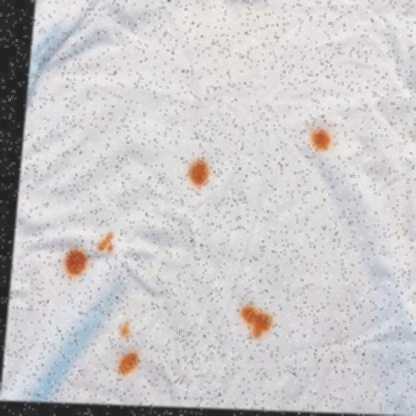kimchi: (240, 303, 280, 340), (112, 348, 144, 378), (187, 156, 213, 190), (302, 125, 338, 149), (65, 246, 85, 276), (98, 231, 116, 254), (119, 320, 134, 337)
